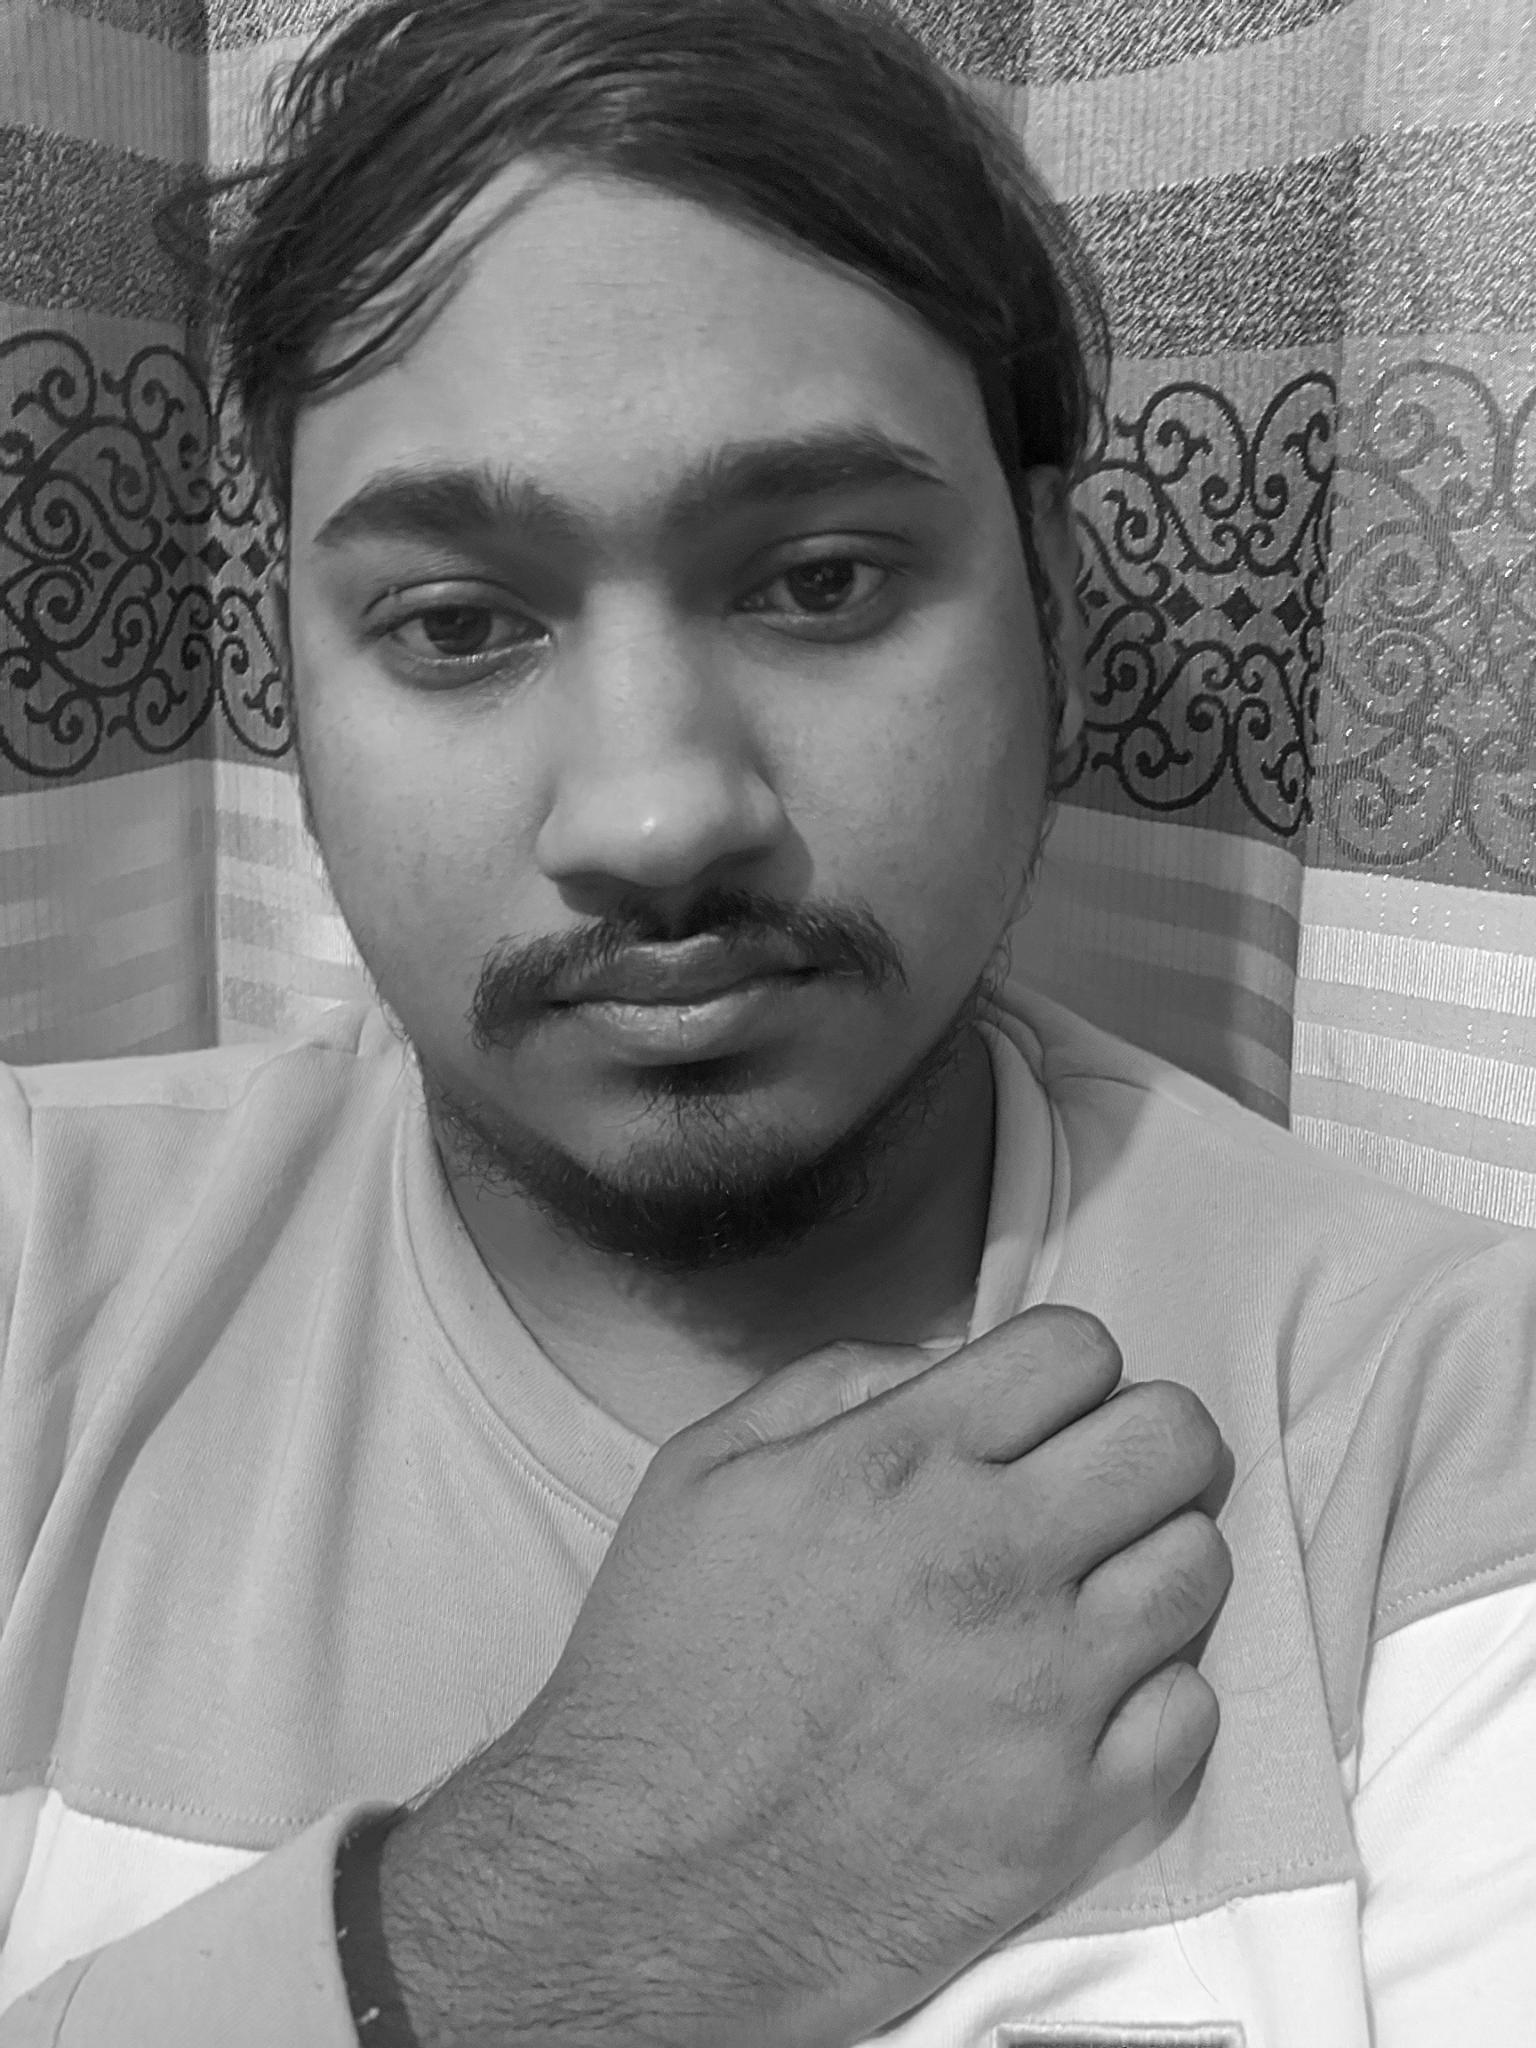Neutral: (224, 361, 1049, 1211)
